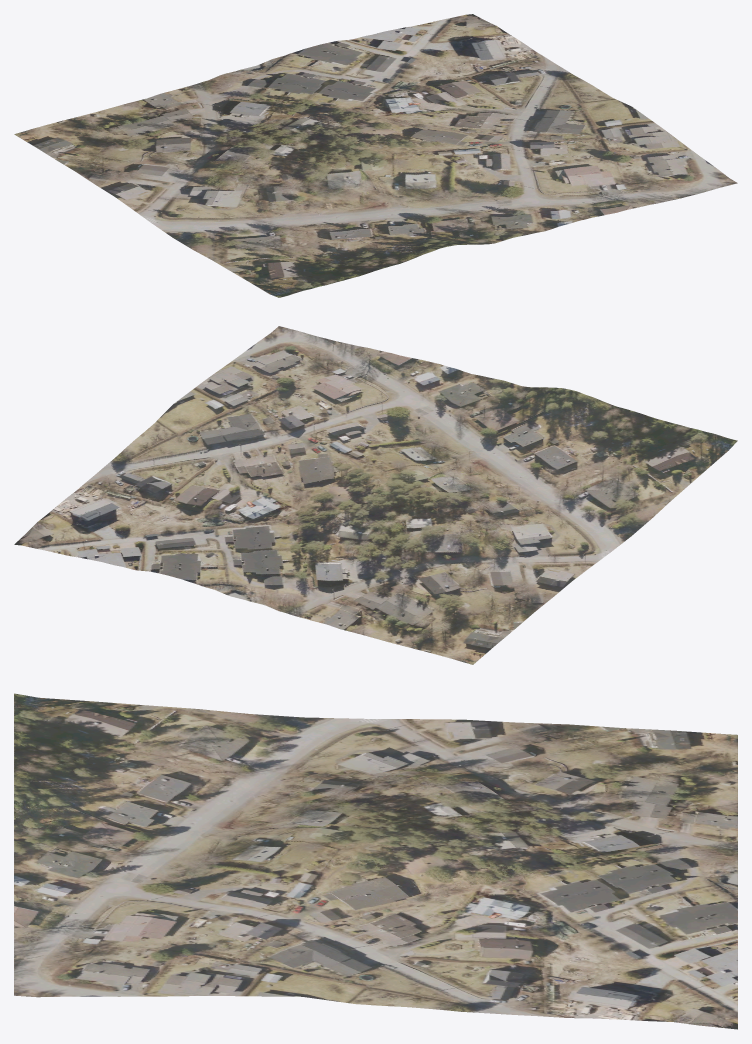
Rendered from CM_Terrain_24490868_6817951.fbx.
The picture shows the model from 3 angles, top to bottom: view 1: azimuth 30°, elevation 25°; view 2: azimuth 150°, elevation 25°; view 3: azimuth 270°, elevation 25°; orthographic projection. The views are drawn at different scales.
Parts seen in each view (by area): view 1: CM_Terrain_24490868_6817951_LOD0; view 2: CM_Terrain_24490868_6817951_LOD0; view 3: CM_Terrain_24490868_6817951_LOD0.
Boxes of the visible parts, x1=… form: CM_Terrain_24490868_6817951_LOD0: x1=14, y1=14, x2=737, y2=297; CM_Terrain_24490868_6817951_LOD0: x1=14, y1=326, x2=737, y2=664; CM_Terrain_24490868_6817951_LOD0: x1=14, y1=693, x2=737, y2=1029.
Size of what is drawn, in the model's own units: 205 by 17.24 by 205.
